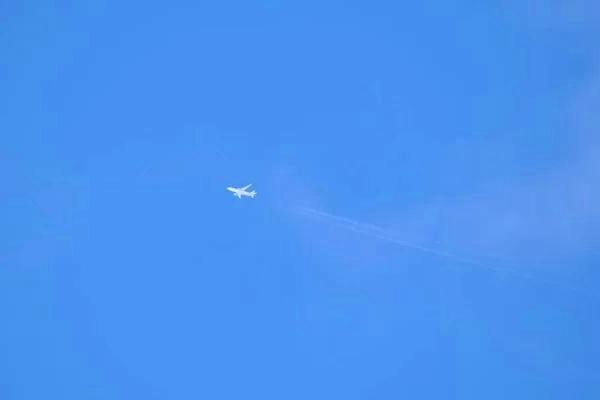Plane: (212, 175, 270, 207)
